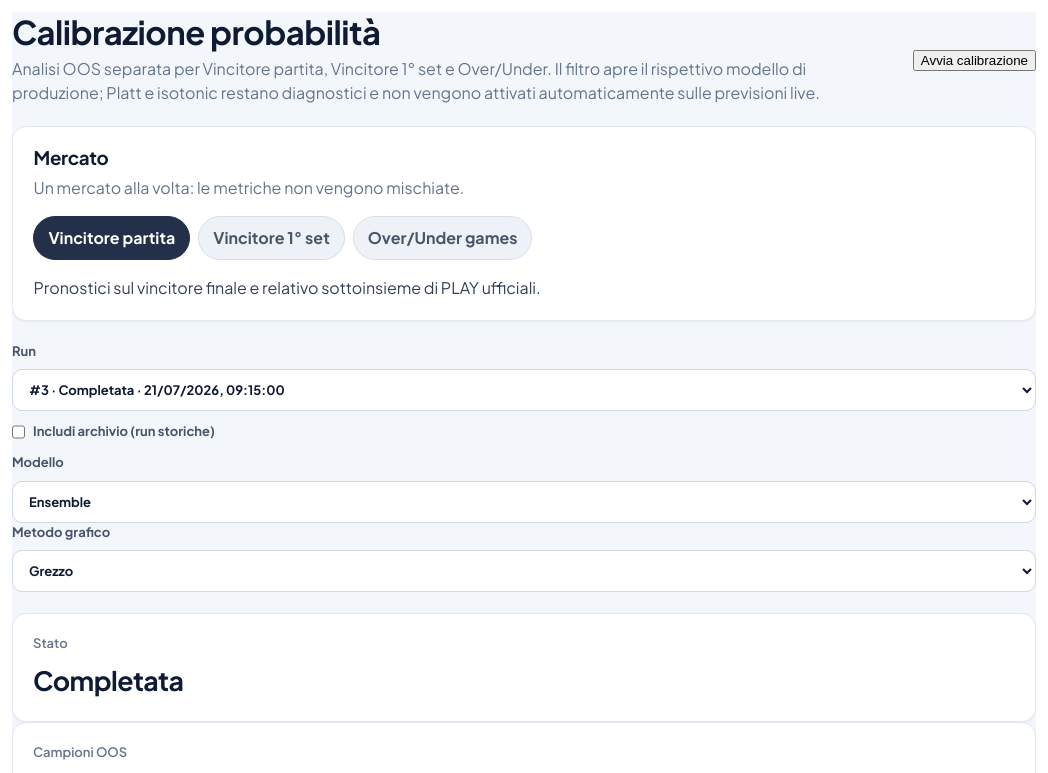
Scenario: CalibrationPage › shows the production calibration for each active market
Expected: the heading "Calibrazione probabilità" is shown, [12,11,380,52]
Step 1. Click the tab "Vincitore 1° set" → [272, 238], box [198,216,345,260]
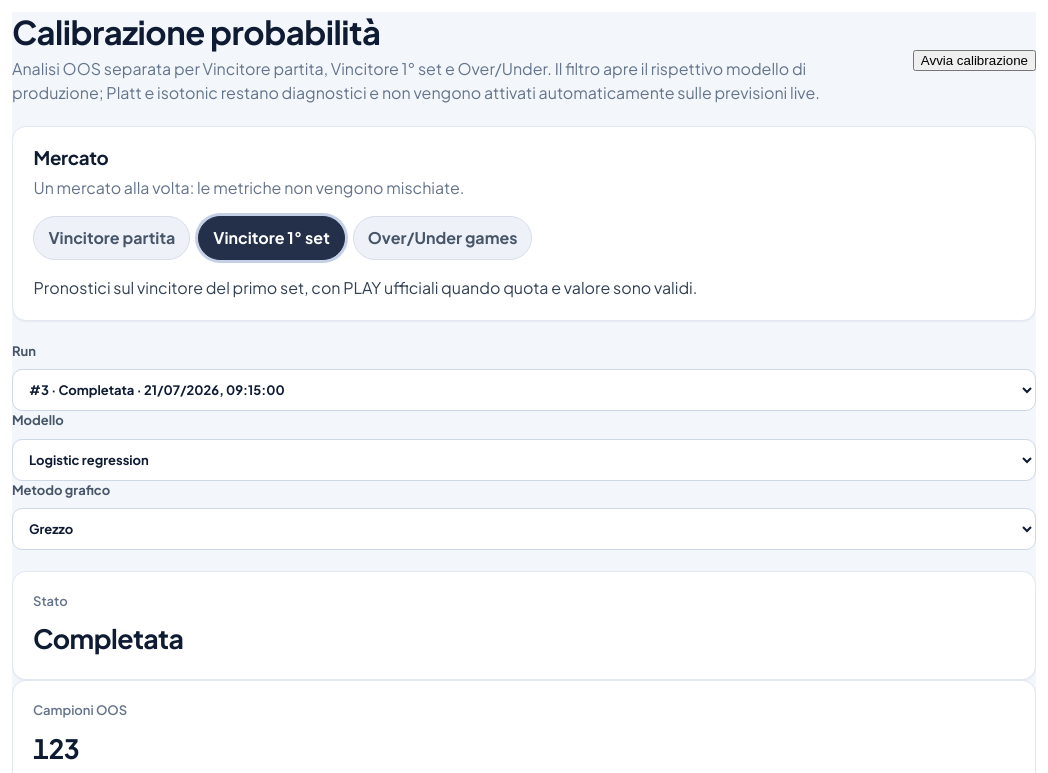
Now the dropdown labelled "Modello" shows "Logistic regression", box [12,439,1036,481]
Now the text "123" is shown, box [33,730,79,764]
Step 2. Click the tab "Over/Under games" → [443, 238], box [353,216,532,260]
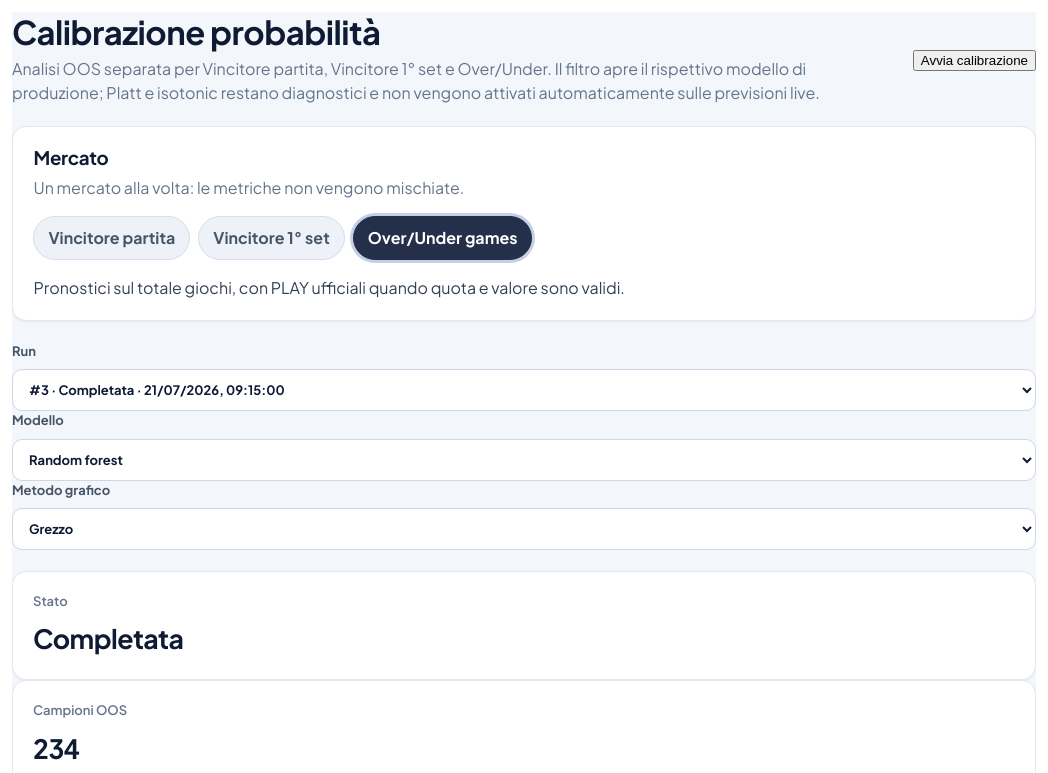
Now the dropdown labelled "Modello" shows "Random forest", box [12,439,1036,481]
Now the text "234" is shown, box [33,730,79,764]
